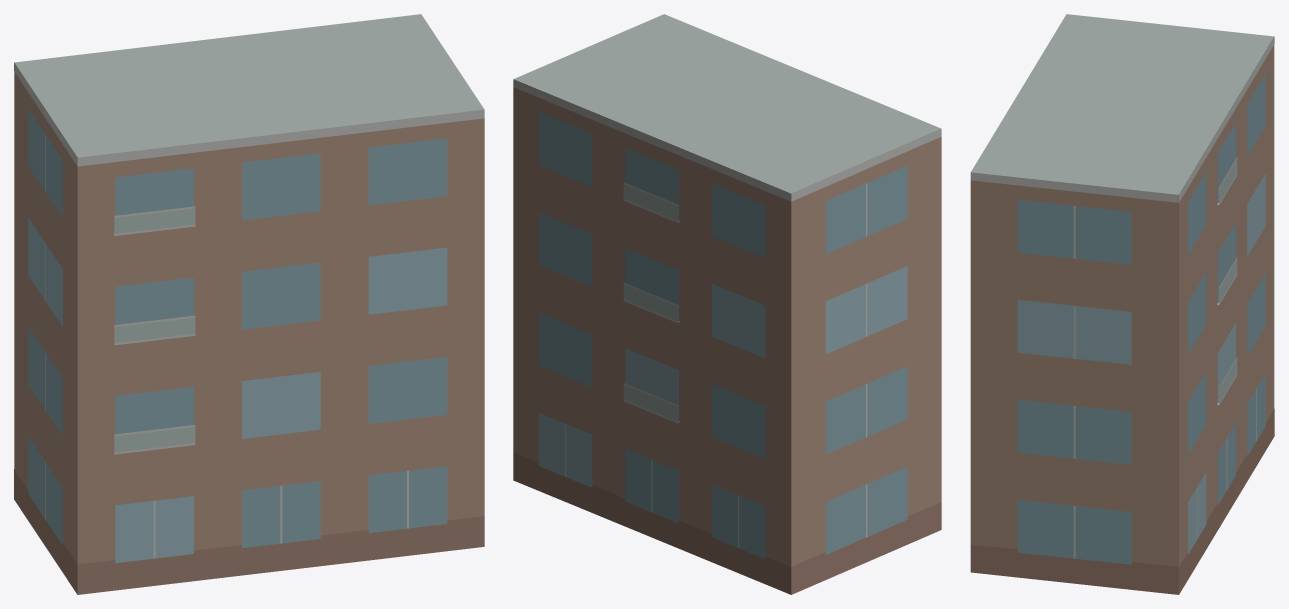
File: residential-8ff6c0cb-bded-4e31-ae57-0a62847ca7a0.glb
3 renders of one model, left to right at view 1: azimuth 30°, elevation 25°; view 2: azimuth 150°, elevation 25°; view 3: azimuth 270°, elevation 25°, orthographic. The views are drawn at different scales.
Visible parts, largest first — view 1: residential-8ff6c0cb-bded-4e31-ae57-0a62847ca7a0.tmp; view 2: residential-8ff6c0cb-bded-4e31-ae57-0a62847ca7a0.tmp; view 3: residential-8ff6c0cb-bded-4e31-ae57-0a62847ca7a0.tmp.
Part boxes in pixels (x1,y1,x2,y2): residential-8ff6c0cb-bded-4e31-ae57-0a62847ca7a0.tmp: (14, 14, 484, 594); residential-8ff6c0cb-bded-4e31-ae57-0a62847ca7a0.tmp: (513, 14, 941, 594); residential-8ff6c0cb-bded-4e31-ae57-0a62847ca7a0.tmp: (970, 14, 1274, 594).
Bounding box in the file's own units: 11.84 × 12.2 × 8.41.
